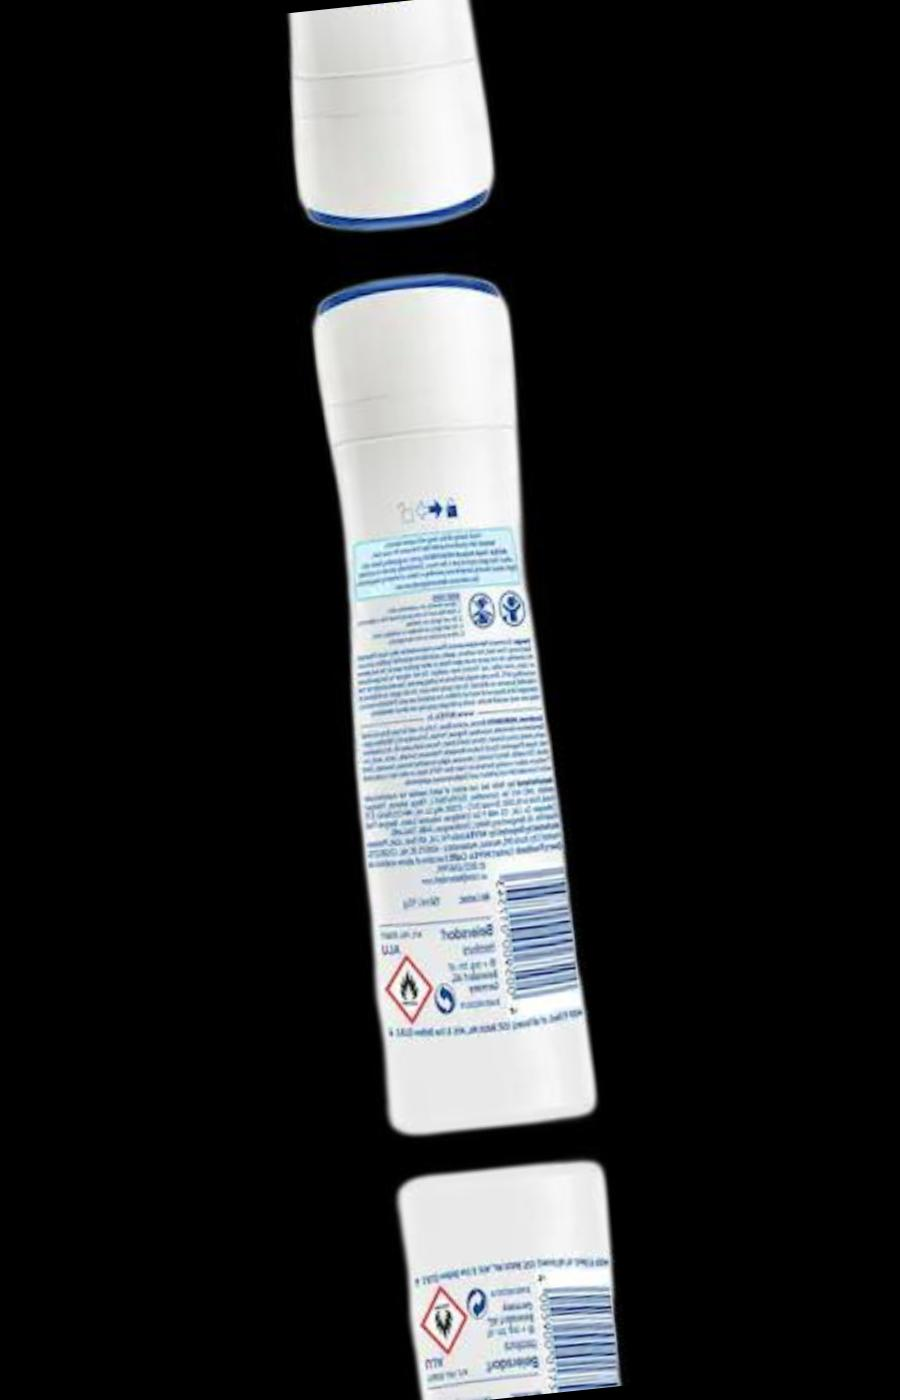Nivea Fresh Natural Deodorant 150 ml: (310, 270, 597, 1139), (403, 1155, 624, 1400), (281, 0, 502, 234)
